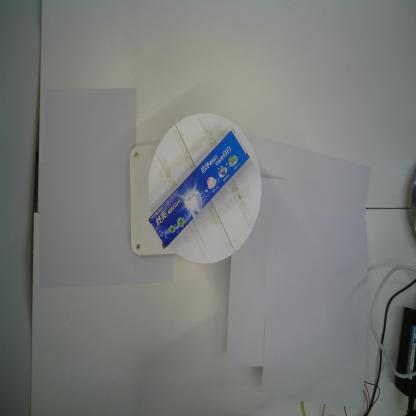Personal Hygiene: (146, 127, 250, 250)
